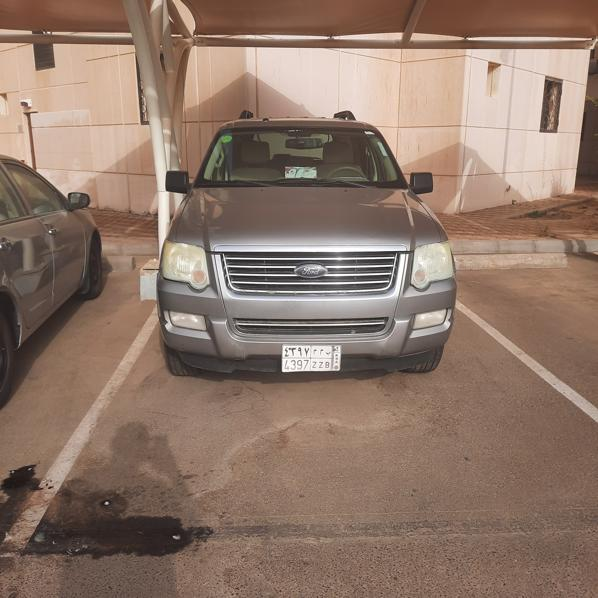numberplate: (281, 343, 341, 371)
